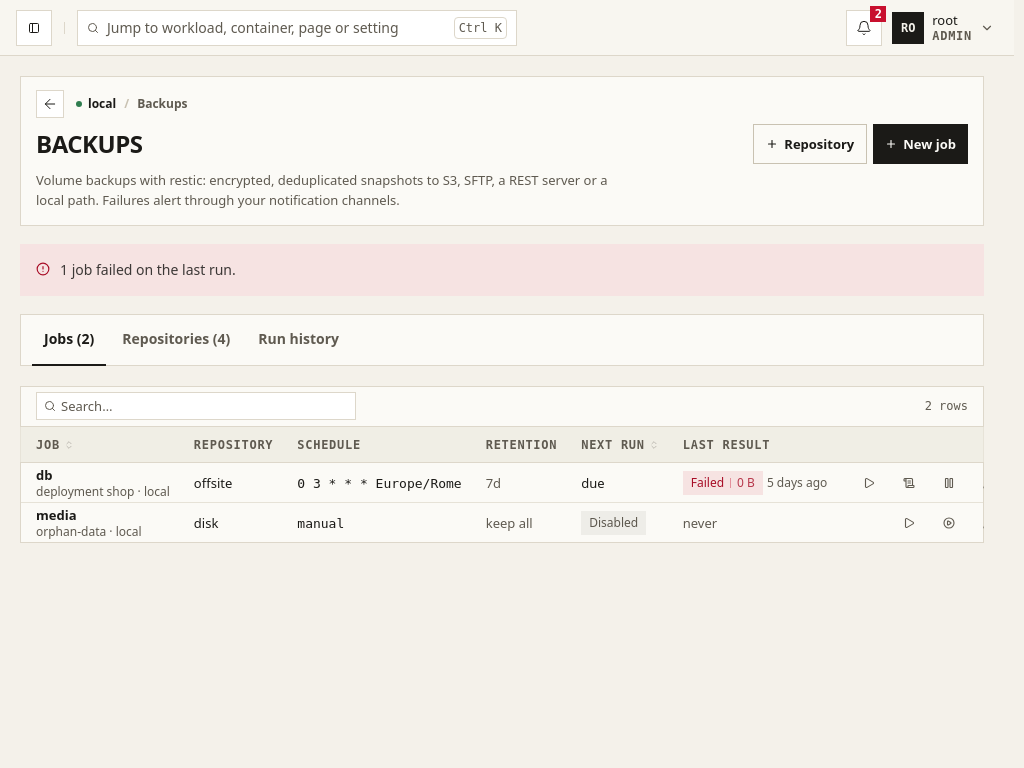
Scenario: backups page › shows the run history and opens a run
Click the tab "Run history": {"x": 299, "y": 340} [246,314,351,366]
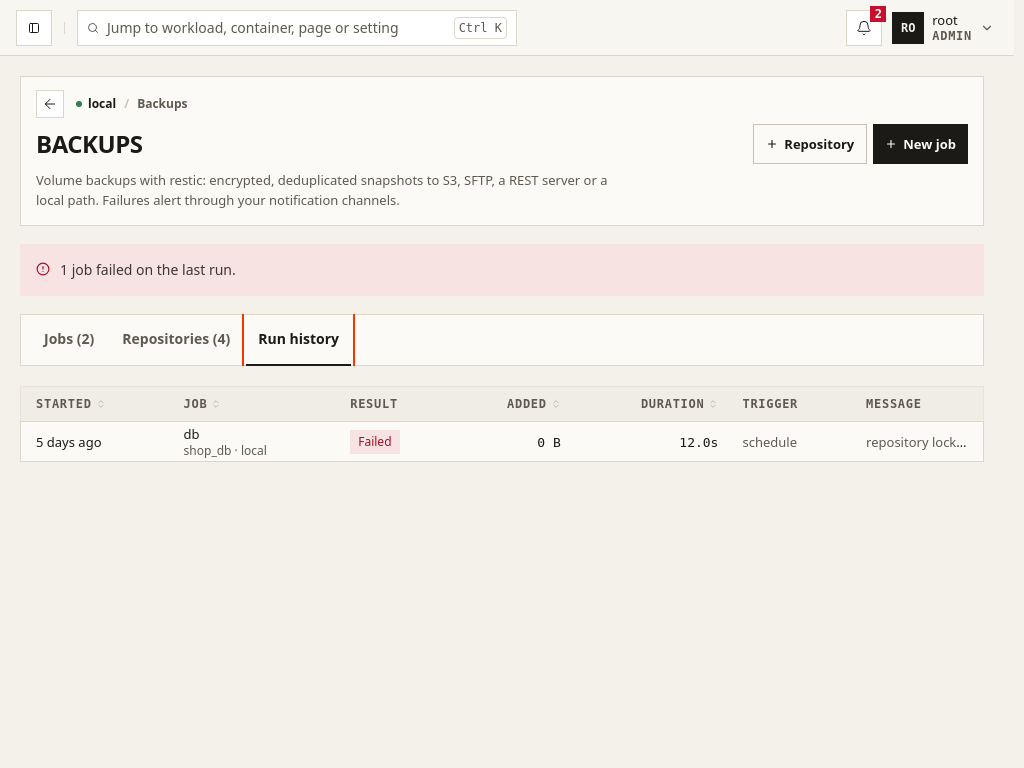
Click the text "repository locked": {"x": 919, "y": 442} [866,433,972,451]
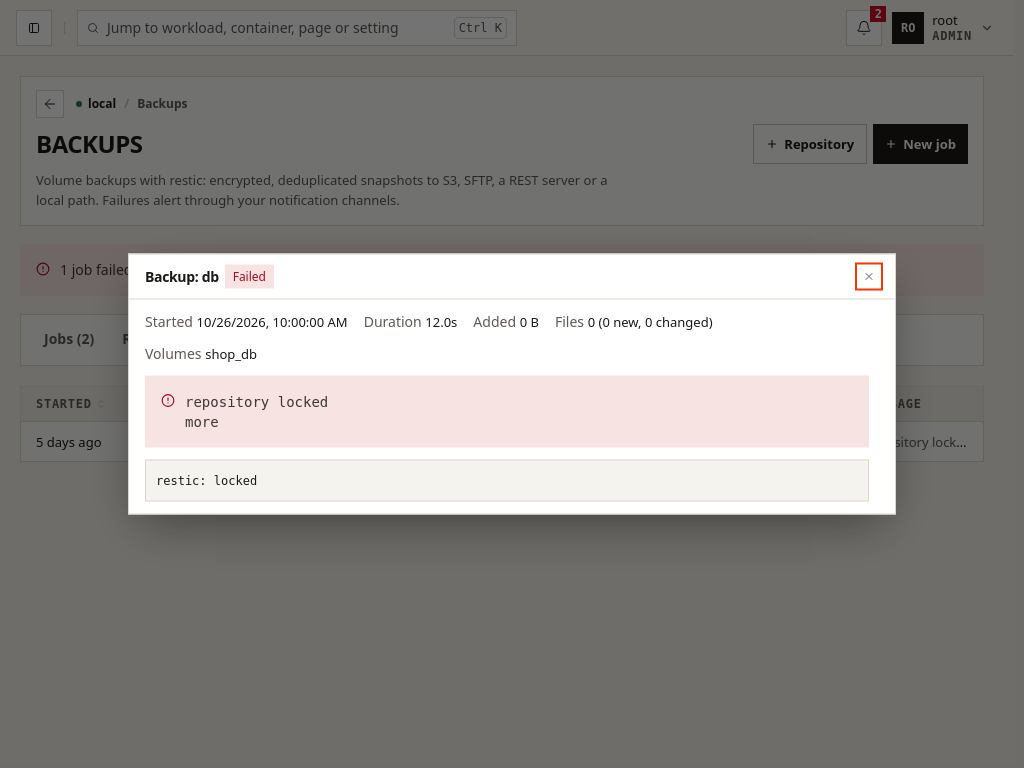
Expected: the text "restic: locked" is shown, [156,474,257,488]
